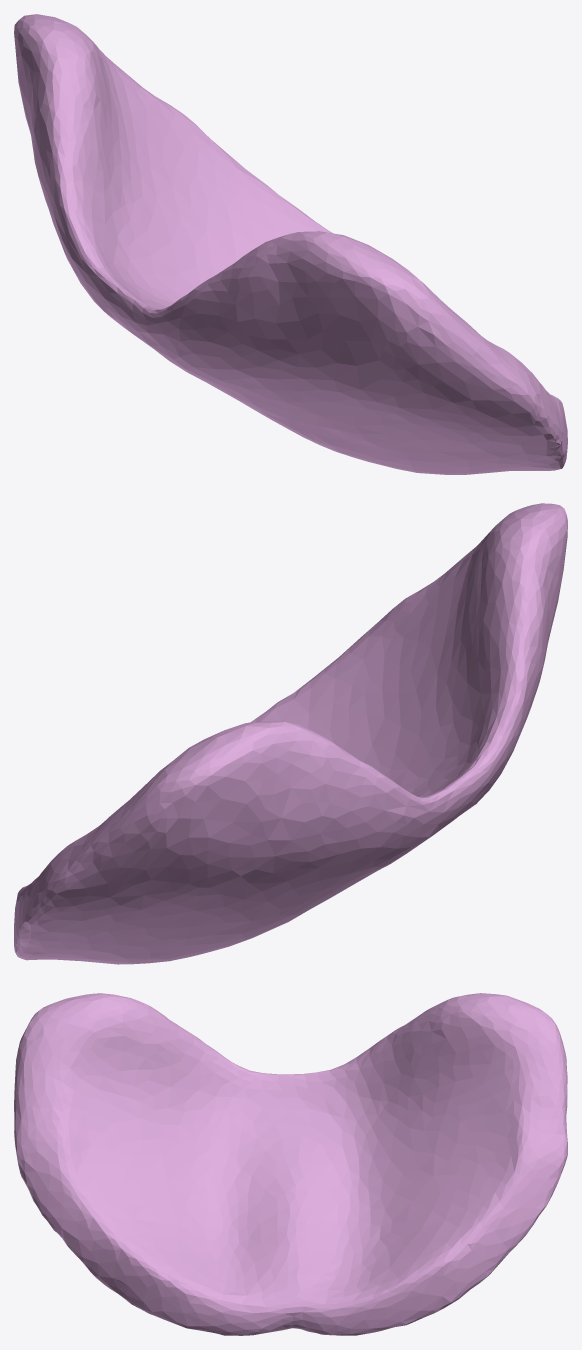
The picture shows the model from 3 angles, top to bottom: view 1: azimuth 30°, elevation 25°; view 2: azimuth 150°, elevation 25°; view 3: azimuth 270°, elevation 25°; orthographic projection. The views are drawn at different scales.
Parts seen in each view (by area): view 1: 17.obj; view 2: 17.obj; view 3: 17.obj.
Boxes of the visible parts, x1,y1,x2,y2 form: 17.obj: (14,14,567,474); 17.obj: (14,503,567,964); 17.obj: (14,993,567,1335).
Size of the model in its own units: 1917 by 1767 by 3639.
